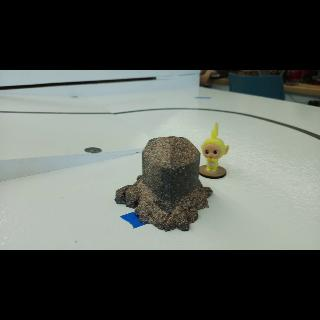teletubby: (201, 123, 229, 172)
